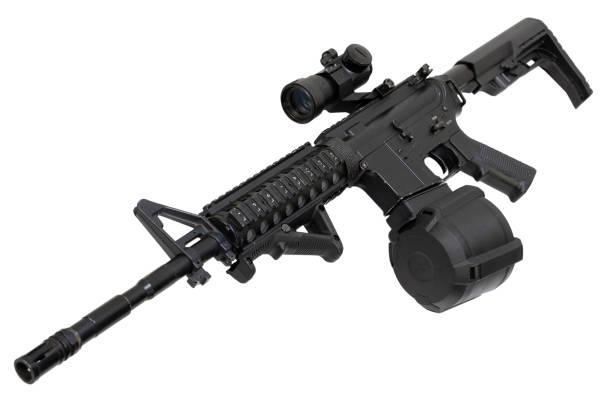larga: (14, 16, 595, 386)
